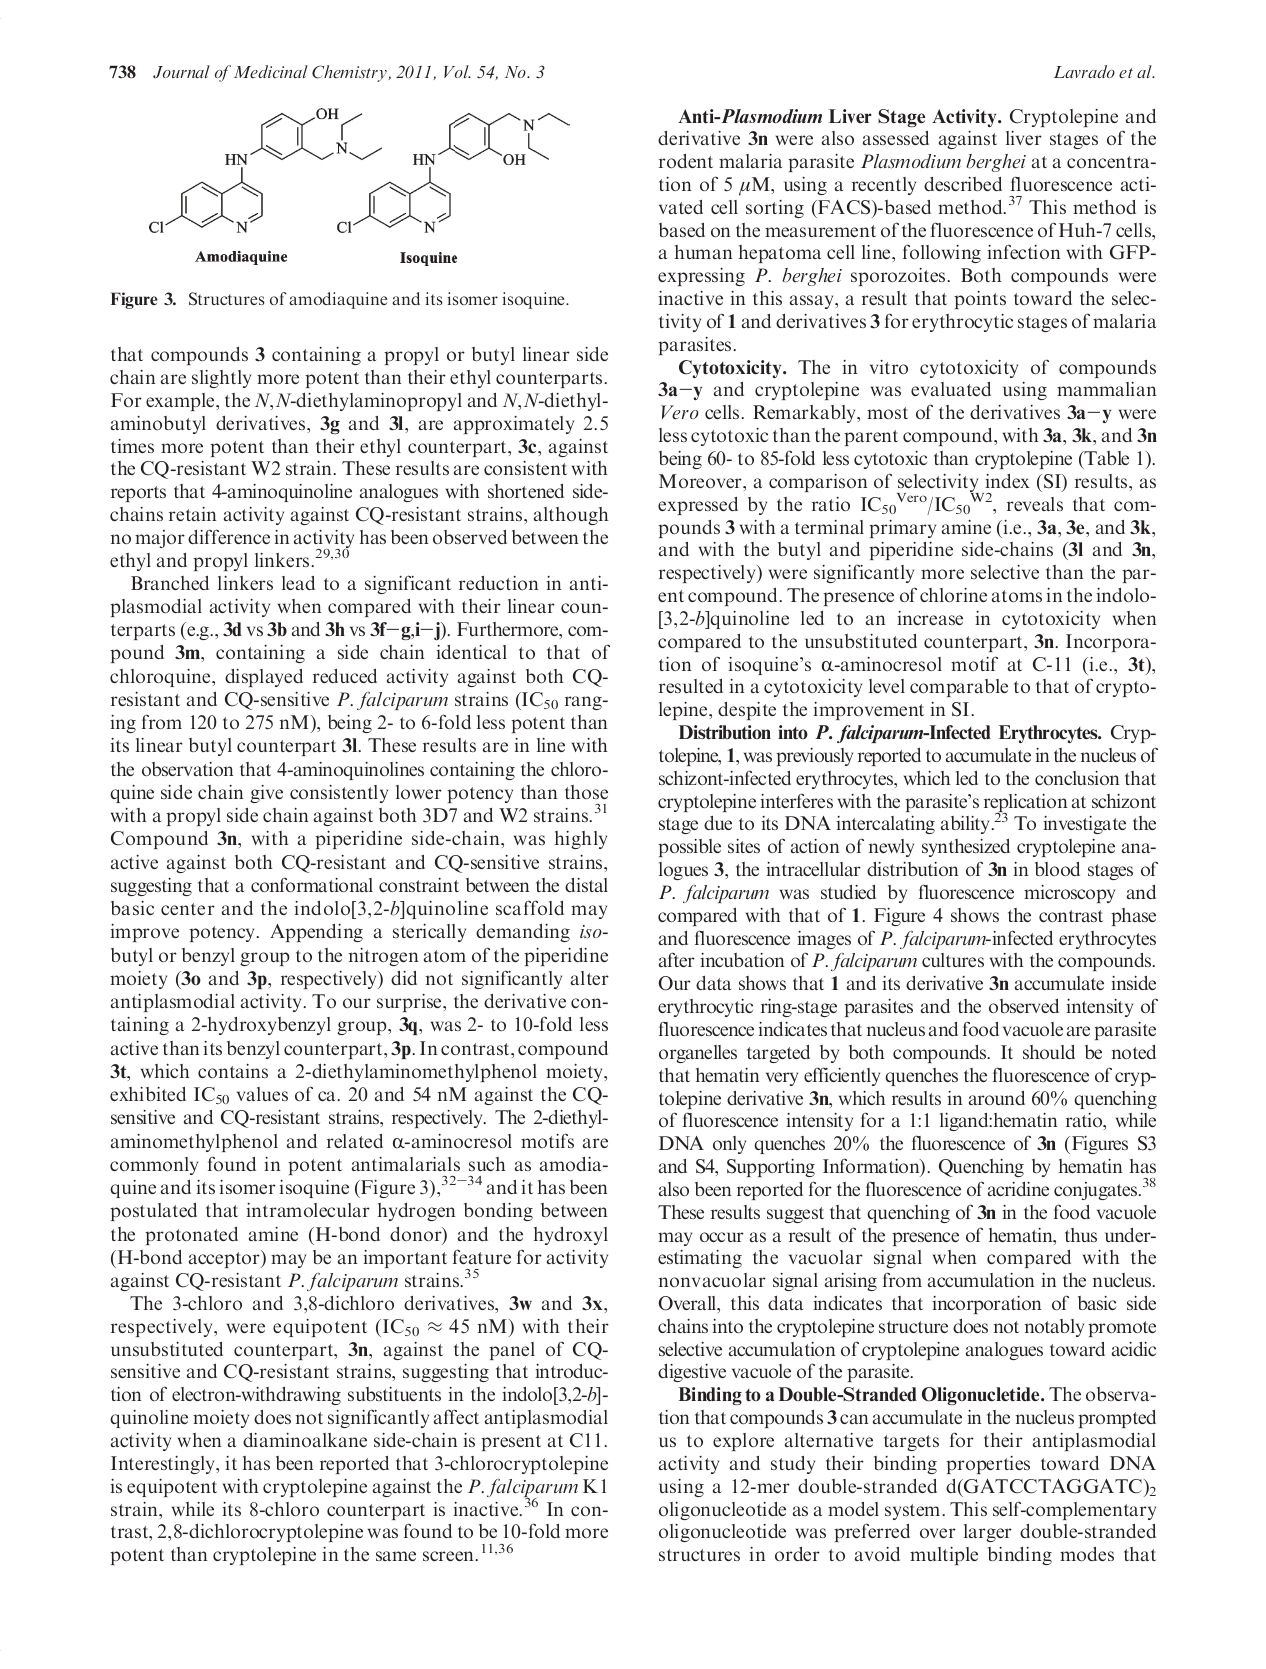exist_molecular: (137, 97, 382, 238), (332, 110, 570, 235)
